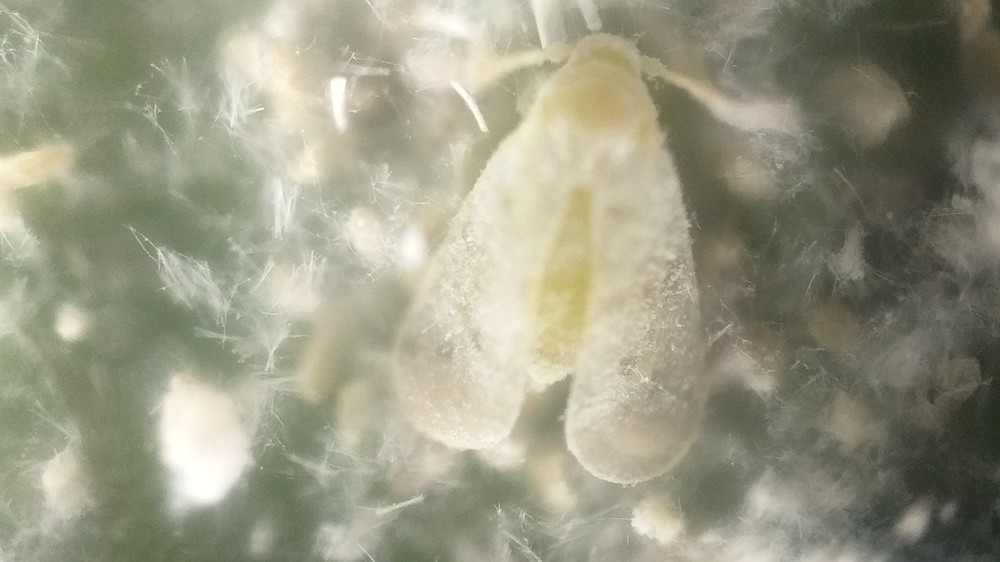Mosca Blanca: (372, 27, 800, 497)
